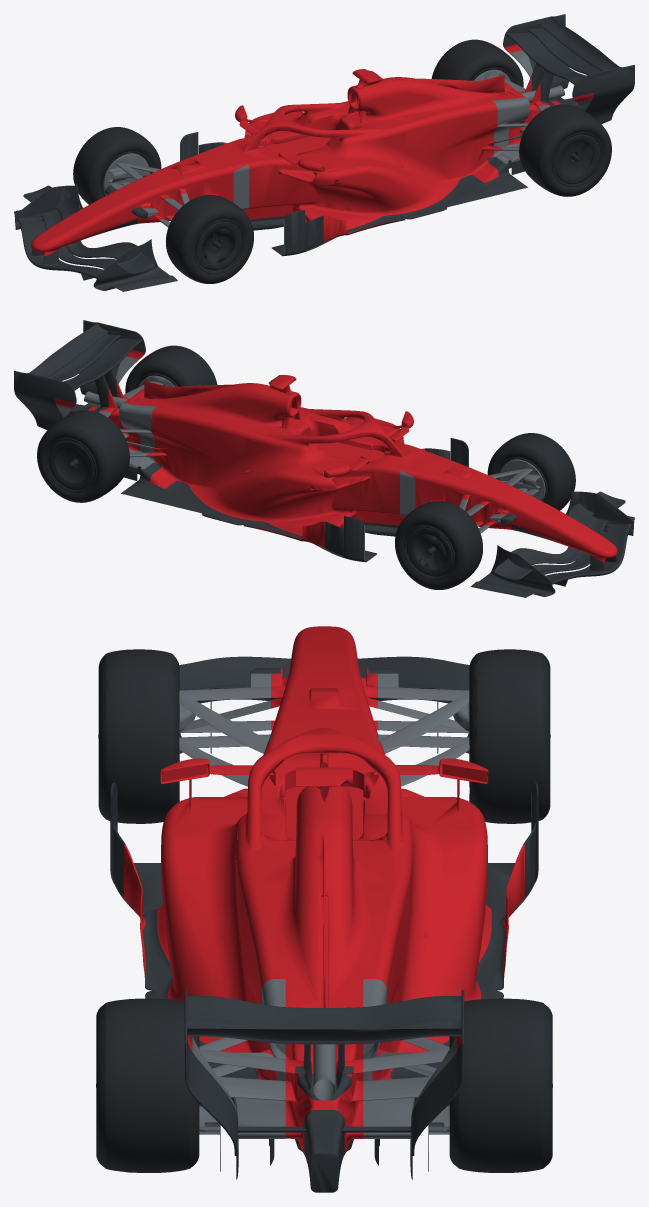
The model's file is vortex-p1.glb.
The picture shows the model from 3 angles, top to bottom: view 1: azimuth 30°, elevation 25°; view 2: azimuth 150°, elevation 25°; view 3: azimuth 270°, elevation 25°; orthographic projection. The views are drawn at different scales.
Visible parts, largest first — view 1: left-sidepod, chassis, front-wing, rear-wing, engine-cover, rear-left-wheel, front-left-wheel, floor, front-right-wheel, halo, rear-right-wheel, rear-suspension (+3 smaller); view 2: right-sidepod, chassis, front-wing, rear-wing, engine-cover, rear-right-wheel, front-right-wheel, floor, front-left-wheel, halo, rear-left-wheel, rear-suspension (+3 smaller); view 3: engine-cover, chassis, rear-wing, left-sidepod, right-sidepod, rear-left-wheel, rear-right-wheel, front-left-wheel, front-right-wheel, rear-suspension, front-suspension, floor (+4 smaller).
Part boxes in pixels (x1,y1,x2,y2): left-sidepod: (281,106,502,242); chassis: (31,76,560,256); front-wing: (14,185,177,291); rear-wing: (503,14,634,123); engine-cover: (335,44,593,139); rear-left-wheel: (519,104,611,196); front-left-wheel: (165,194,253,283); floor: (180,132,527,256); front-right-wheel: (73,127,161,204); halo: (245,103,375,148); rear-right-wheel: (431,39,523,87); rear-suspension: (474,50,592,163); right-sidepod: (146,412,367,548); chassis: (88,382,617,562); front-wing: (471,491,634,597); rear-wing: (14,320,145,429); engine-cover: (55,350,313,445); rear-right-wheel: (37,410,129,502); front-right-wheel: (395,501,482,589); floor: (121,438,468,562); front-left-wheel: (487,433,575,510); halo: (273,409,403,454); rear-left-wheel: (125,345,217,393); rear-suspension: (56,356,175,469); engine-cover: (187,767,461,1050); chassis: (234,626,414,1154); rear-wing: (184,989,464,1192); left-sidepod: (124,765,264,1079); right-sidepod: (384,765,524,1079); rear-left-wheel: (96,998,199,1172); rear-right-wheel: (449,998,552,1172); front-left-wheel: (98,649,179,823); front-right-wheel: (469,649,550,823); rear-suspension: (192,979,456,1152); front-suspension: (117,673,531,816); floor: (110,782,538,1179).
Size of the model in its own units: 5394 by 1099 by 1881.
